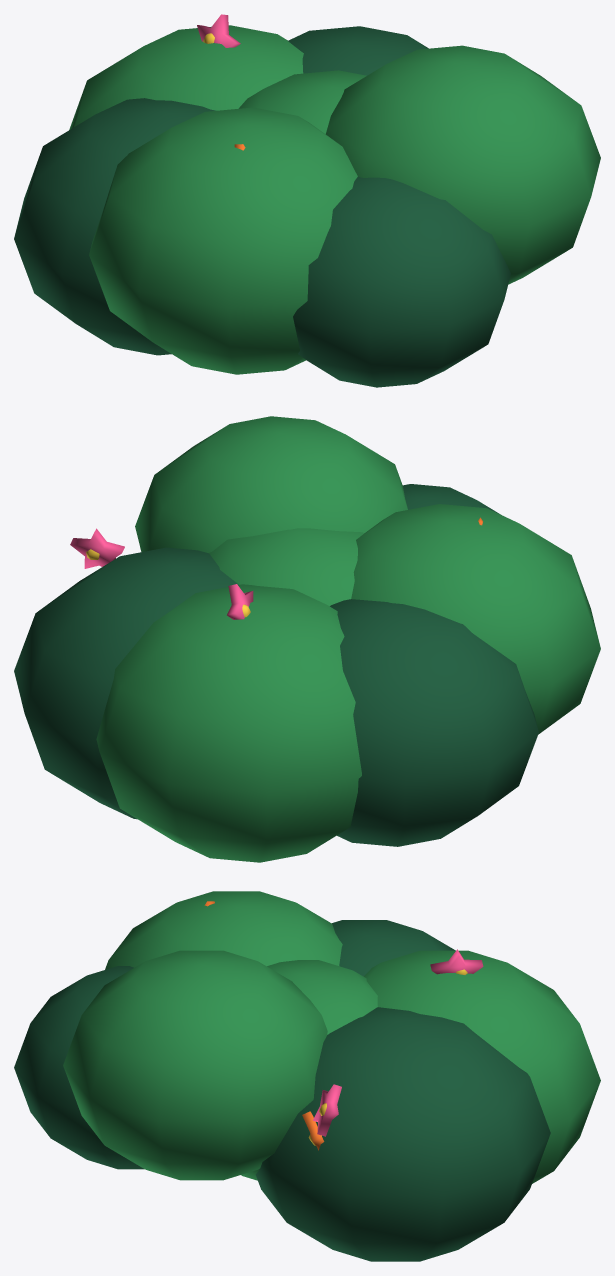
Rendered from jungle_bush.glb.
3 views of the same model, one above another, from view 1: azimuth 30°, elevation 25°; view 2: azimuth 150°, elevation 25°; view 3: azimuth 270°, elevation 25° (orthographic). The views are drawn at different scales.
Visible parts, largest first — view 1: Bush; view 2: Bush; view 3: Bush.
Boxes of the visible parts, x1,y1,x2,y2 form: Bush: (14, 14, 600, 387); Bush: (14, 416, 600, 862); Bush: (14, 891, 600, 1261).
Bounding box in the file's own units: 2.17 × 1.34 × 2.55.
